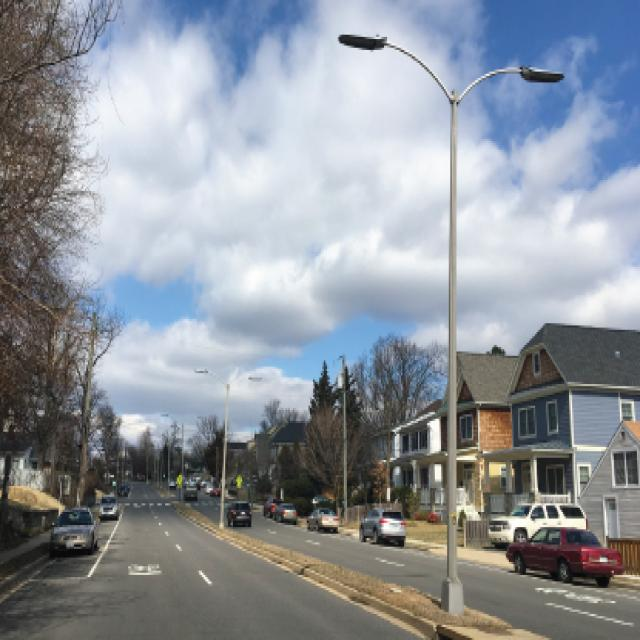Electric pole: (340, 35, 566, 616)
